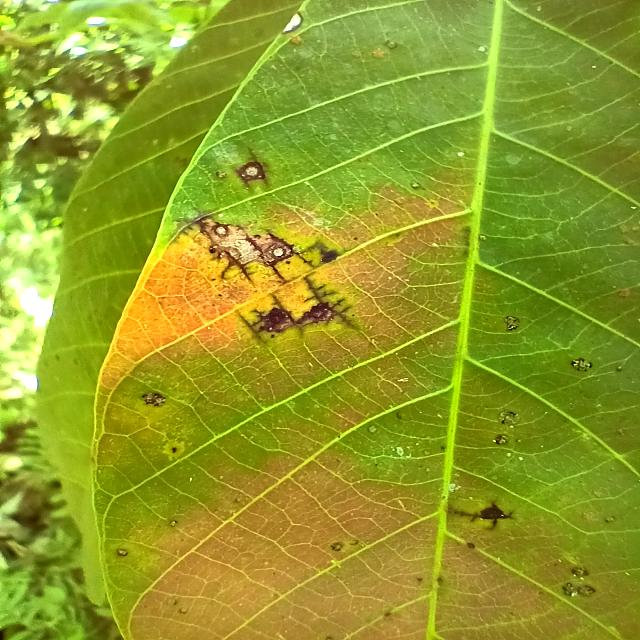Corynespora: (192, 216, 255, 286), (296, 270, 358, 329), (236, 294, 296, 341), (243, 234, 285, 280), (446, 500, 515, 528), (267, 231, 314, 268), (232, 146, 268, 189)
